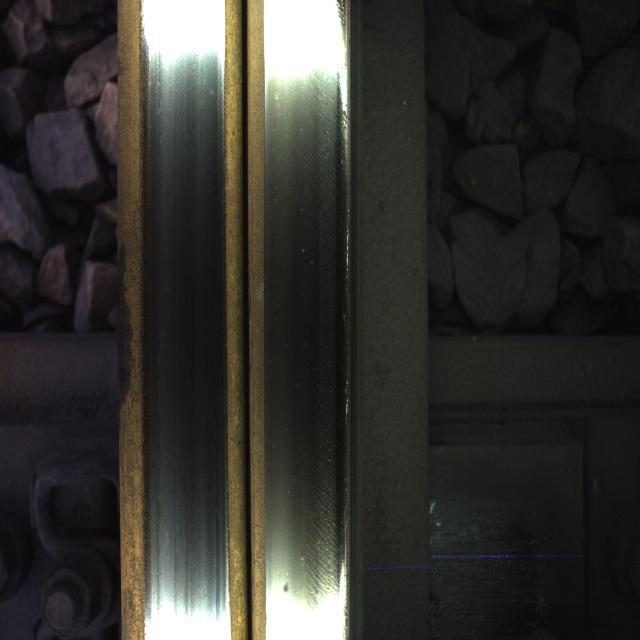break: (148, 26, 224, 578)
normal: (275, 21, 354, 618)
